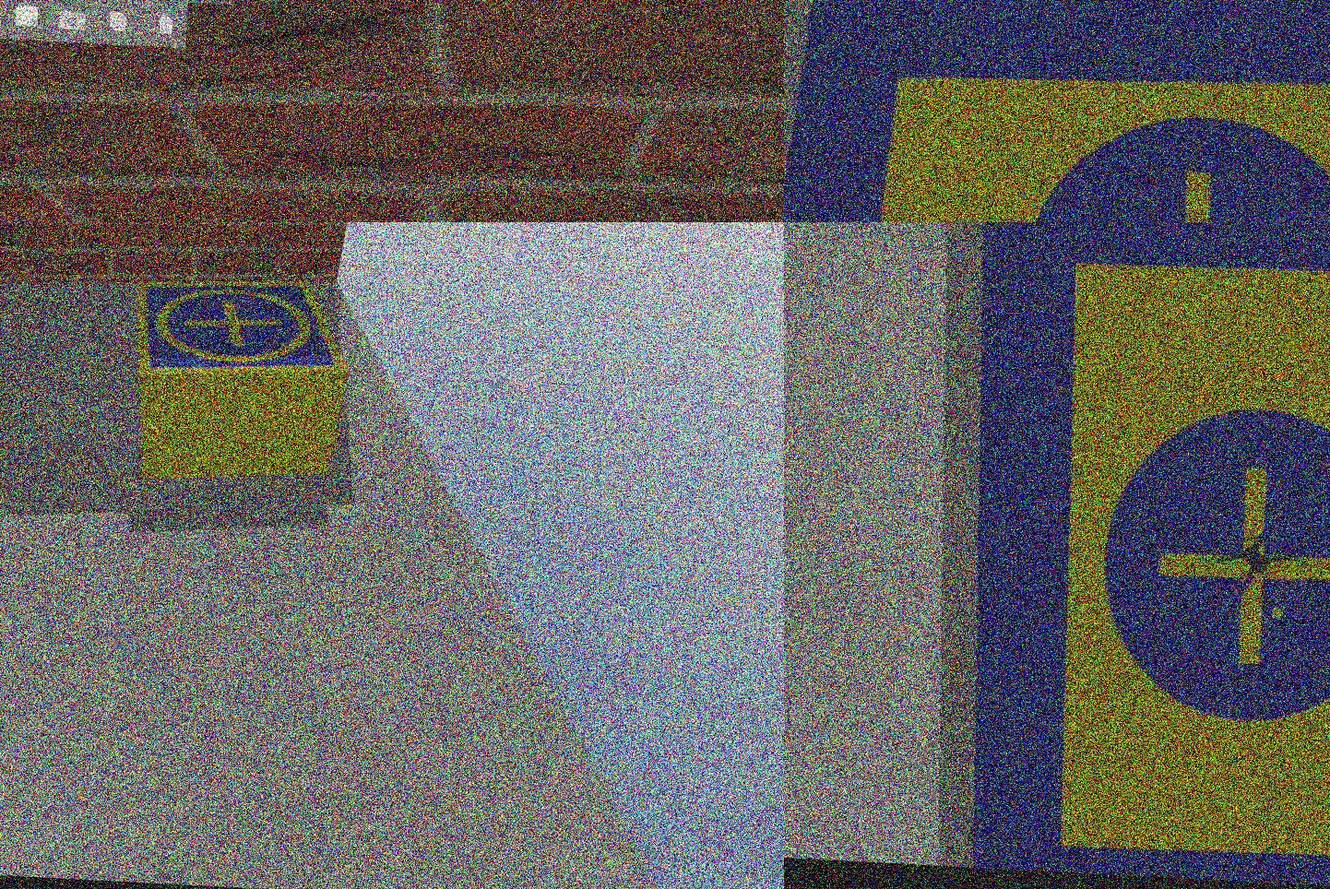large_base: (942, 223, 1330, 889), (784, 1, 1330, 223)
small_base: (132, 275, 353, 393)
